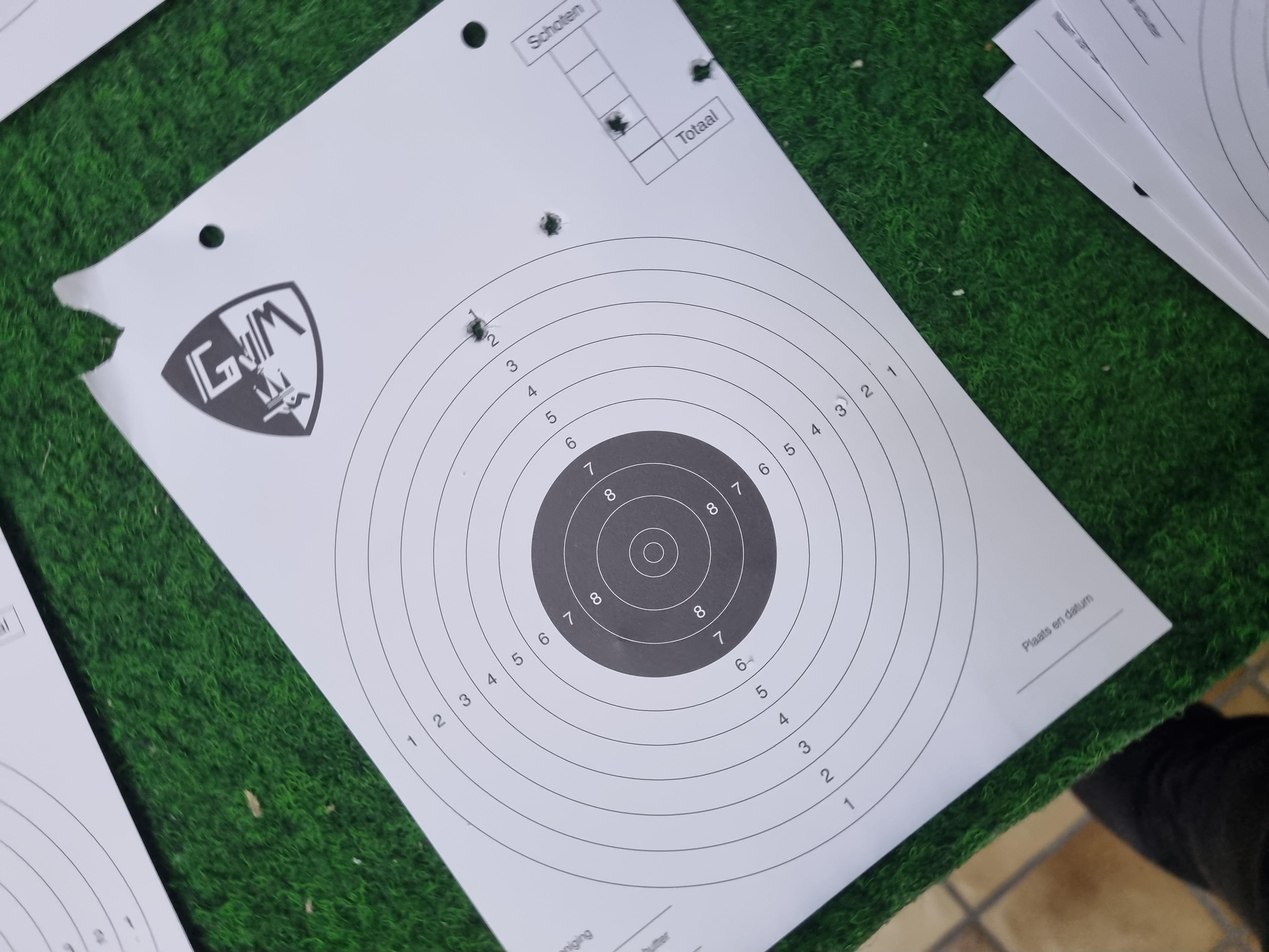hole: (146, 479, 182, 500), (282, 528, 317, 548), (78, 416, 111, 436), (424, 584, 455, 602)
